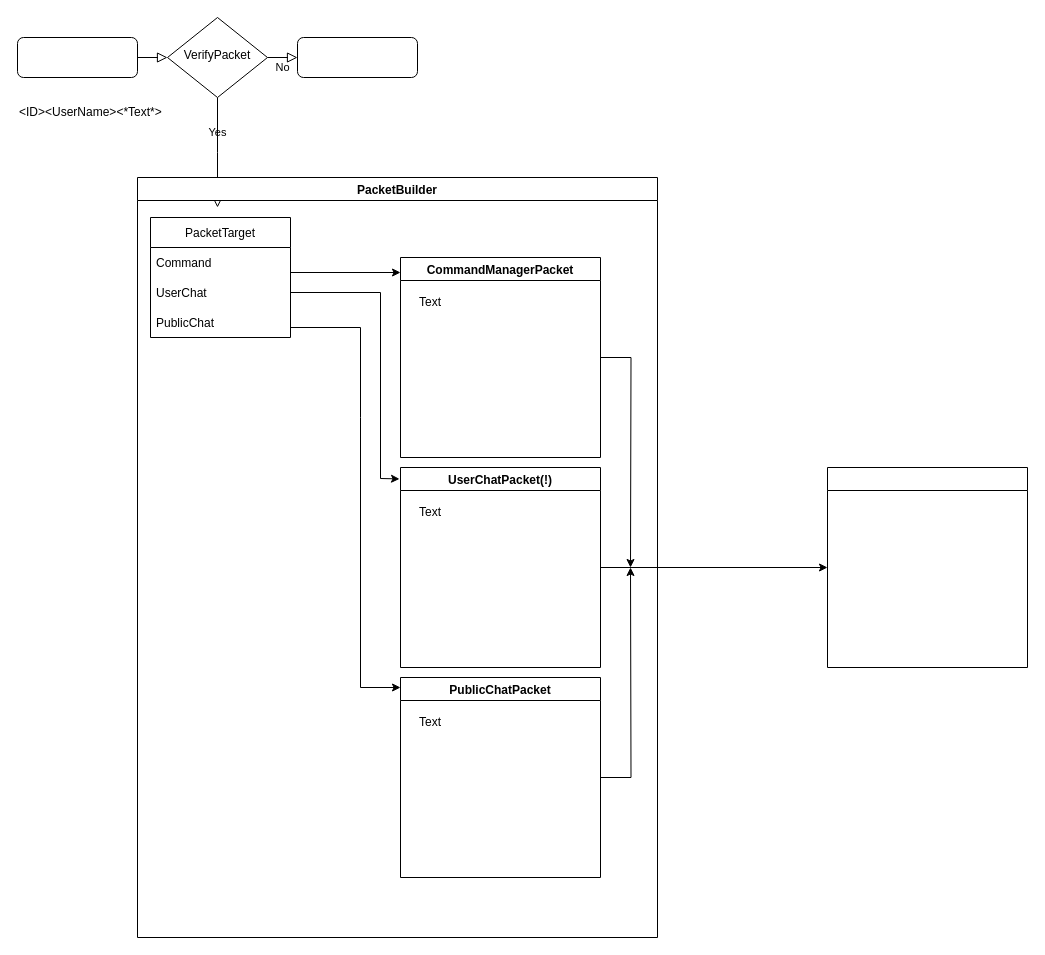
Some shapes in this 1045 by 955 pixel diagram are drawn without their labels. The shapes that lost their labels are listed below. From the top down, each one's centre as x and y in pixels, then its label:
At pixel 77 57: "Client Sends Packet".
At pixel 357 57: "Throw away pack".
At pixel 927 567: "PacketManager".
